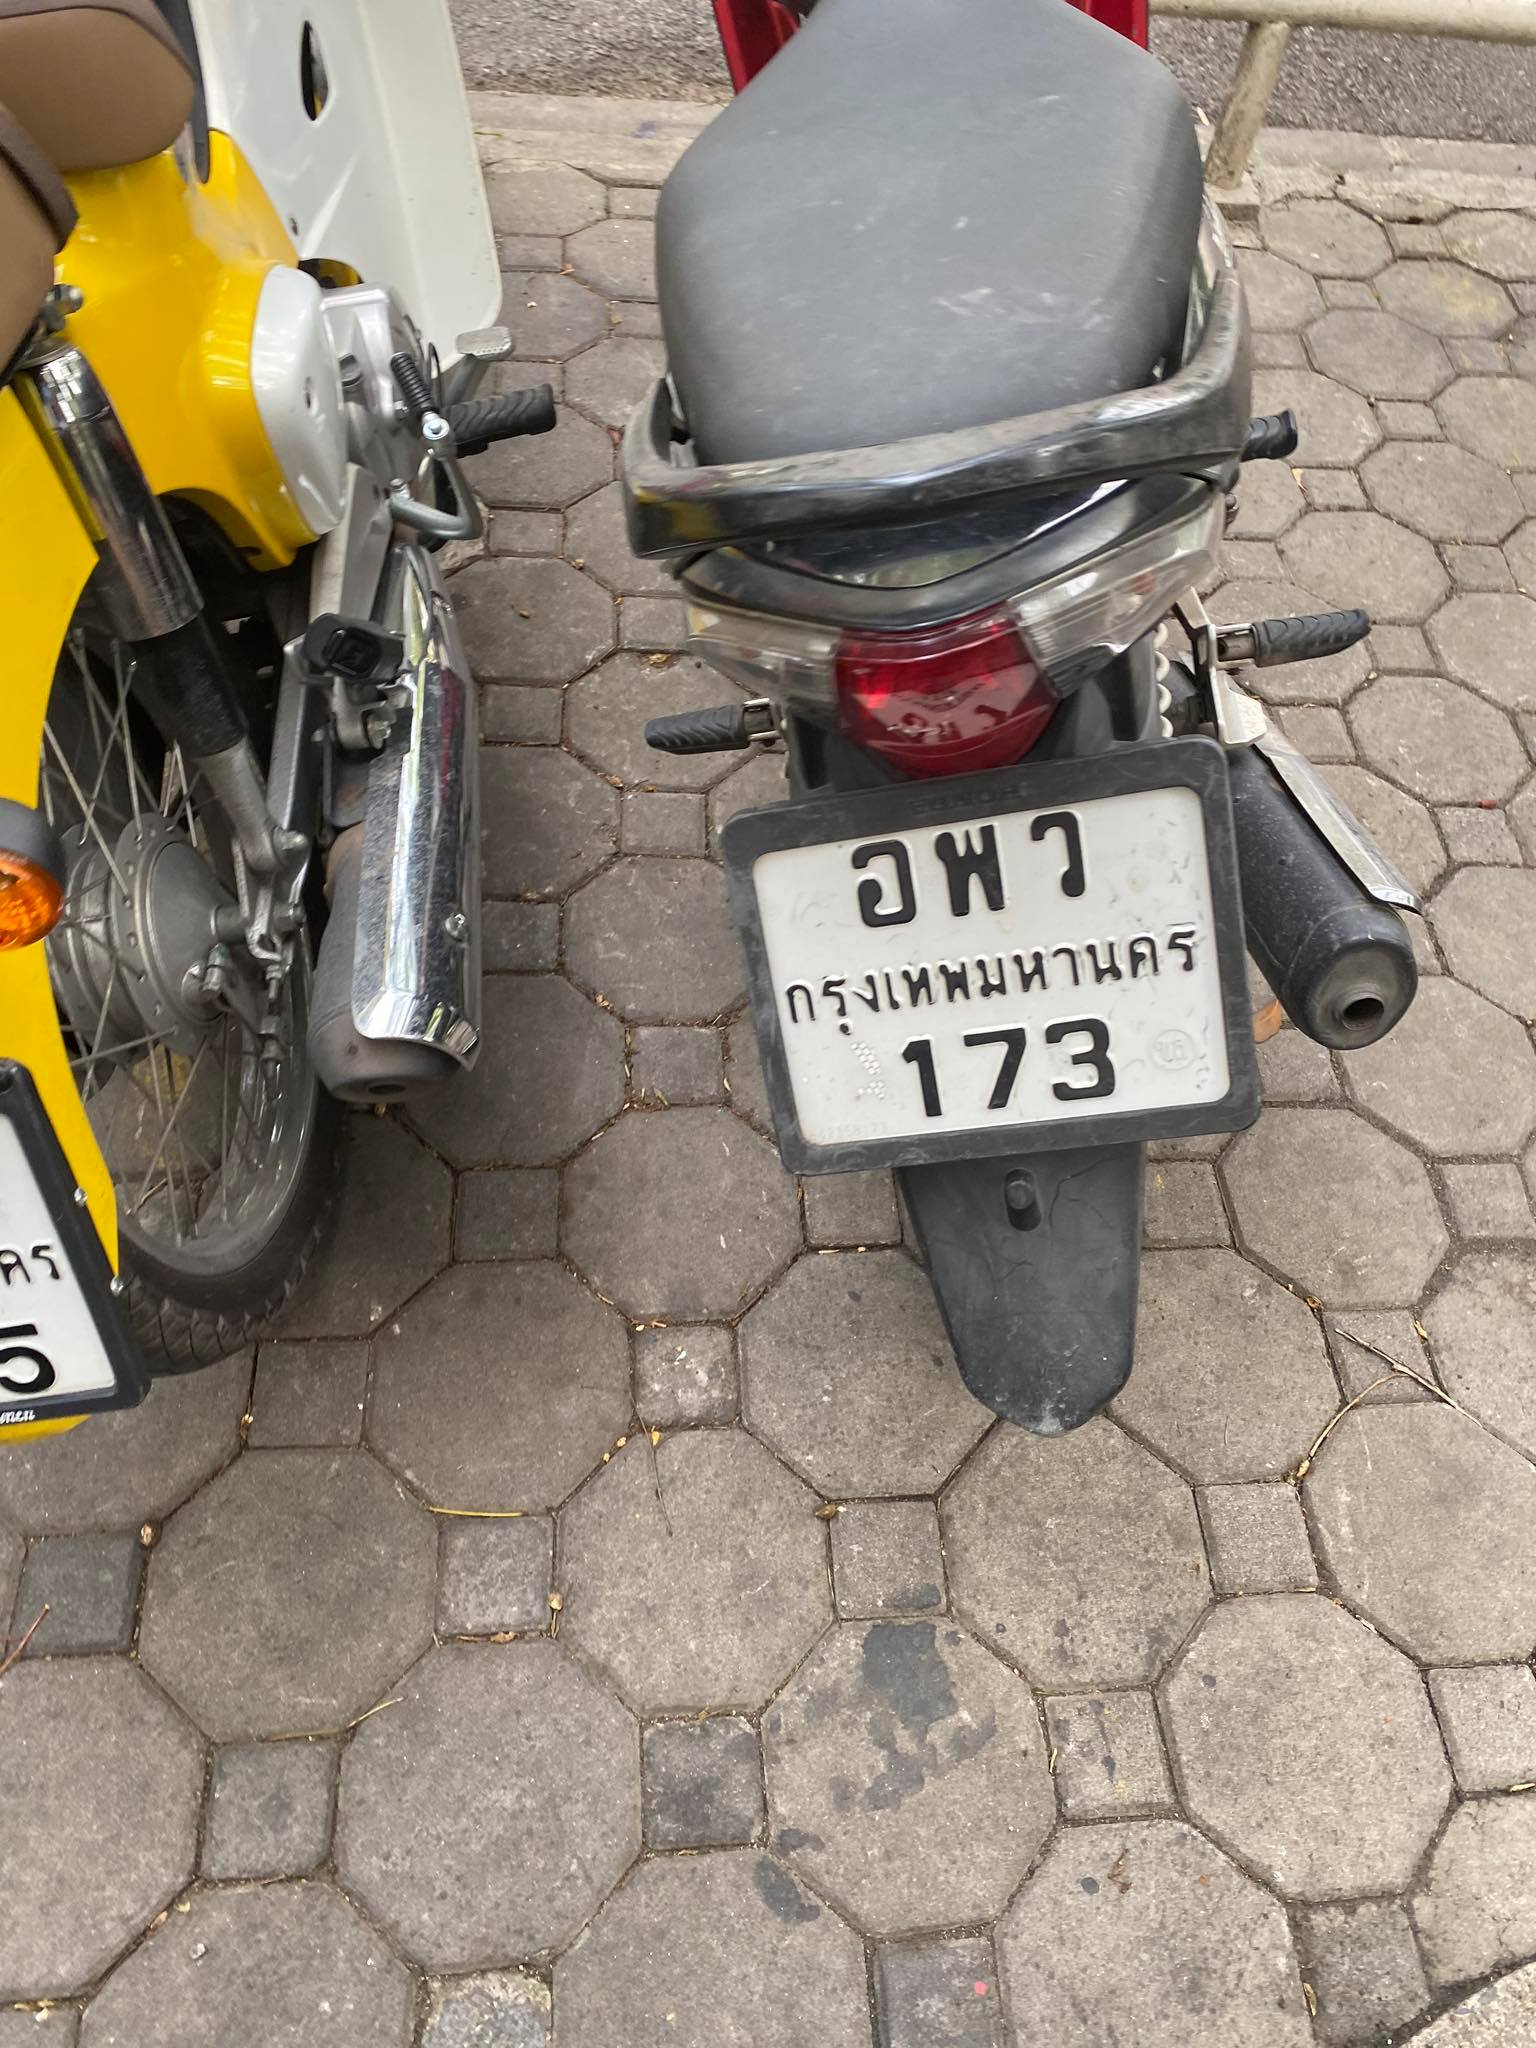line1: (837, 798, 1087, 934)
line2: (736, 930, 1233, 1042)
line3: (874, 1022, 1137, 1114)
